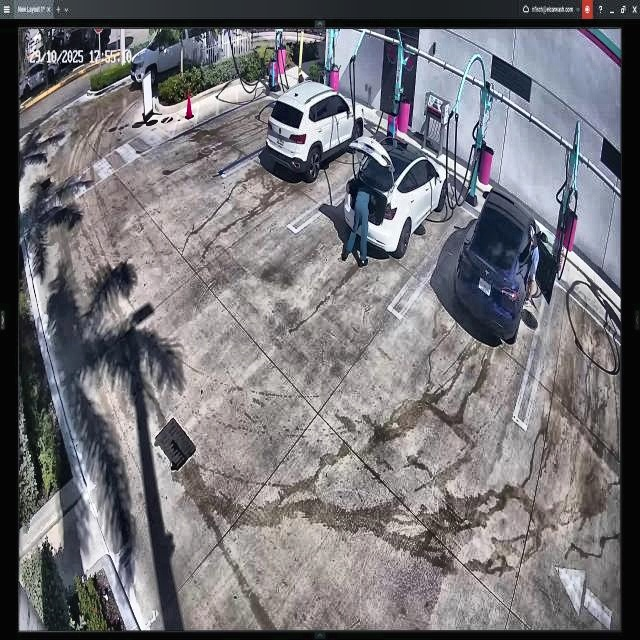Car: (455, 189, 555, 345), (342, 131, 448, 253), (266, 79, 363, 178)
